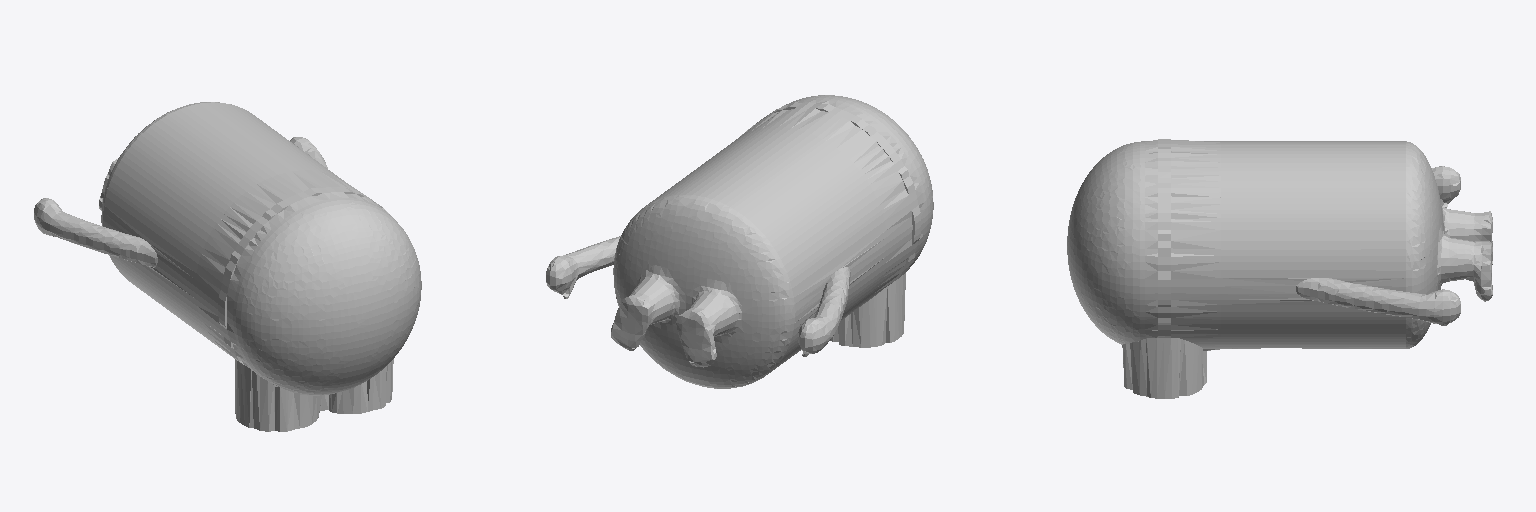
Rendered from 86250-minion_Clustering_90pct.obj.
The picture shows the model from 3 angles: view 1: azimuth 30°, elevation 25°; view 2: azimuth 150°, elevation 25°; view 3: azimuth 270°, elevation 25°; orthographic projection.
Size of the model in its own units: 0.752 by 0.556 by 0.9999.